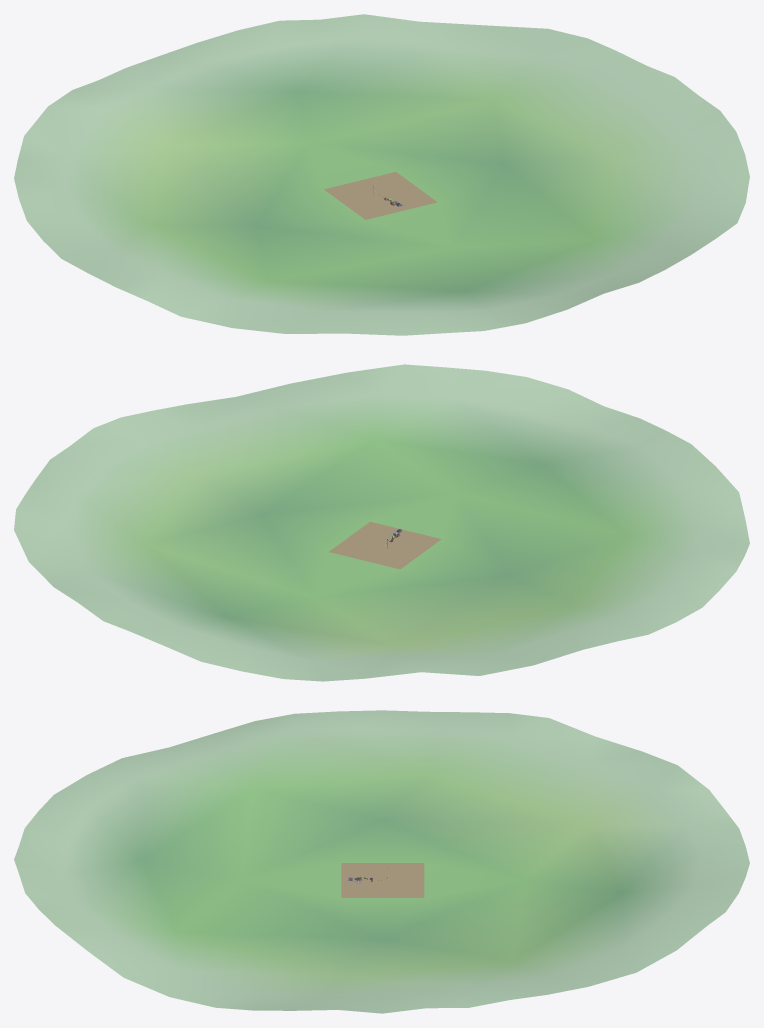
Rendered from harvest_models_fbx.glb.
3 renders of one model, top to bottom at view 1: azimuth 30°, elevation 25°; view 2: azimuth 150°, elevation 25°; view 3: azimuth 270°, elevation 25°, orthographic.
Visible parts, largest first — view 1: back_low, dirt; view 2: back_low, dirt; view 3: back_low, dirt.
Boxes of the visible parts, x1,y1,x2,y2 form: back_low: [14, 14, 749, 335]; dirt: [324, 172, 437, 219]; back_low: [14, 364, 749, 681]; dirt: [329, 521, 441, 569]; back_low: [14, 710, 749, 1013]; dirt: [341, 863, 424, 897].
Size of the model in its own units: 1324 by 53.5 by 1329.
